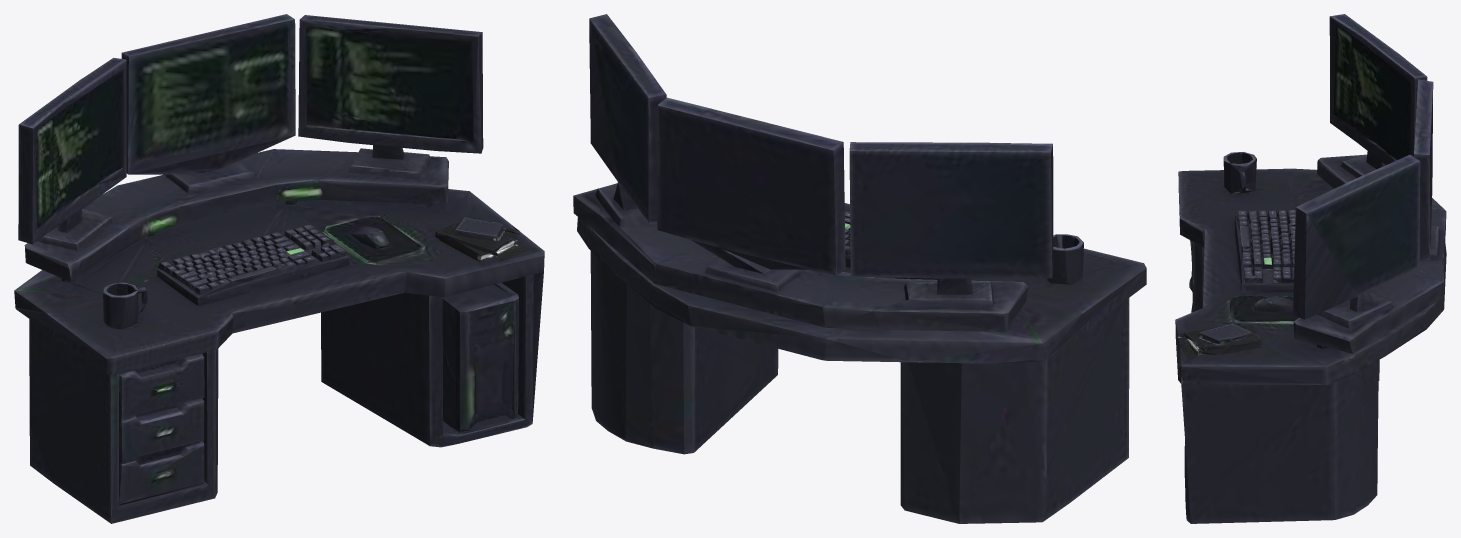
The model's file is mesa_monitores.glb.
3 renders of one model, left to right at view 1: azimuth 30°, elevation 25°; view 2: azimuth 150°, elevation 25°; view 3: azimuth 270°, elevation 25°, orthographic. The views are drawn at different scales.
Parts seen in each view (by area): view 1: Mesh_0; view 2: Mesh_0; view 3: Mesh_0.
Boxes of the visible parts, x1,y1,x2,y2 form: Mesh_0: (14, 14, 544, 523); Mesh_0: (573, 14, 1146, 523); Mesh_0: (1175, 14, 1446, 523).
Size of the model in its own units: 1.68 by 1.25 by 0.9629.
Materials: 1 (1 with a texture image).
